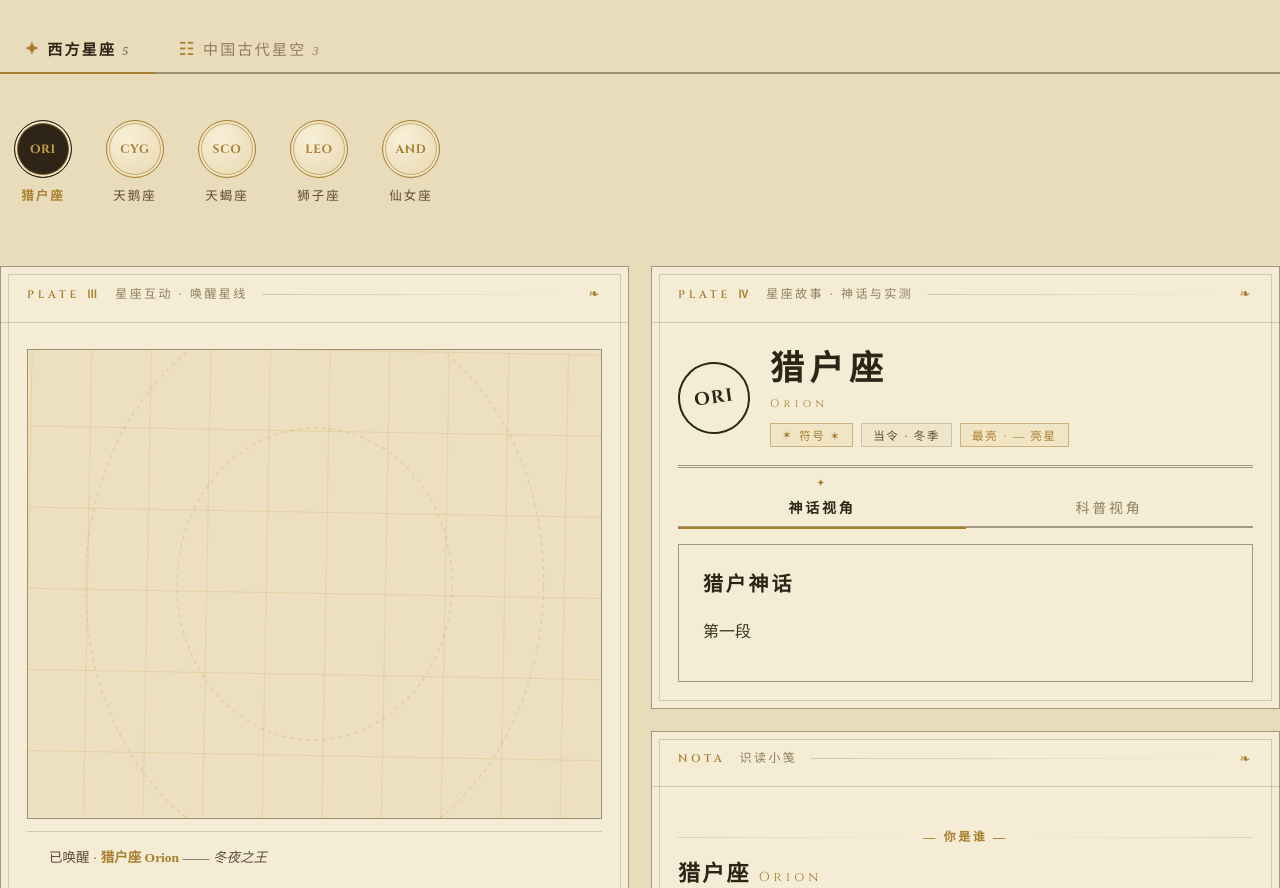
Test case: ConstellationView › chinese tradition 渲染 3 枚 smedal（不再分组，无 chip-list / details）
Click the tab with test id "trad-tab-chinese" at (250,49), box [155, 26, 345, 72]
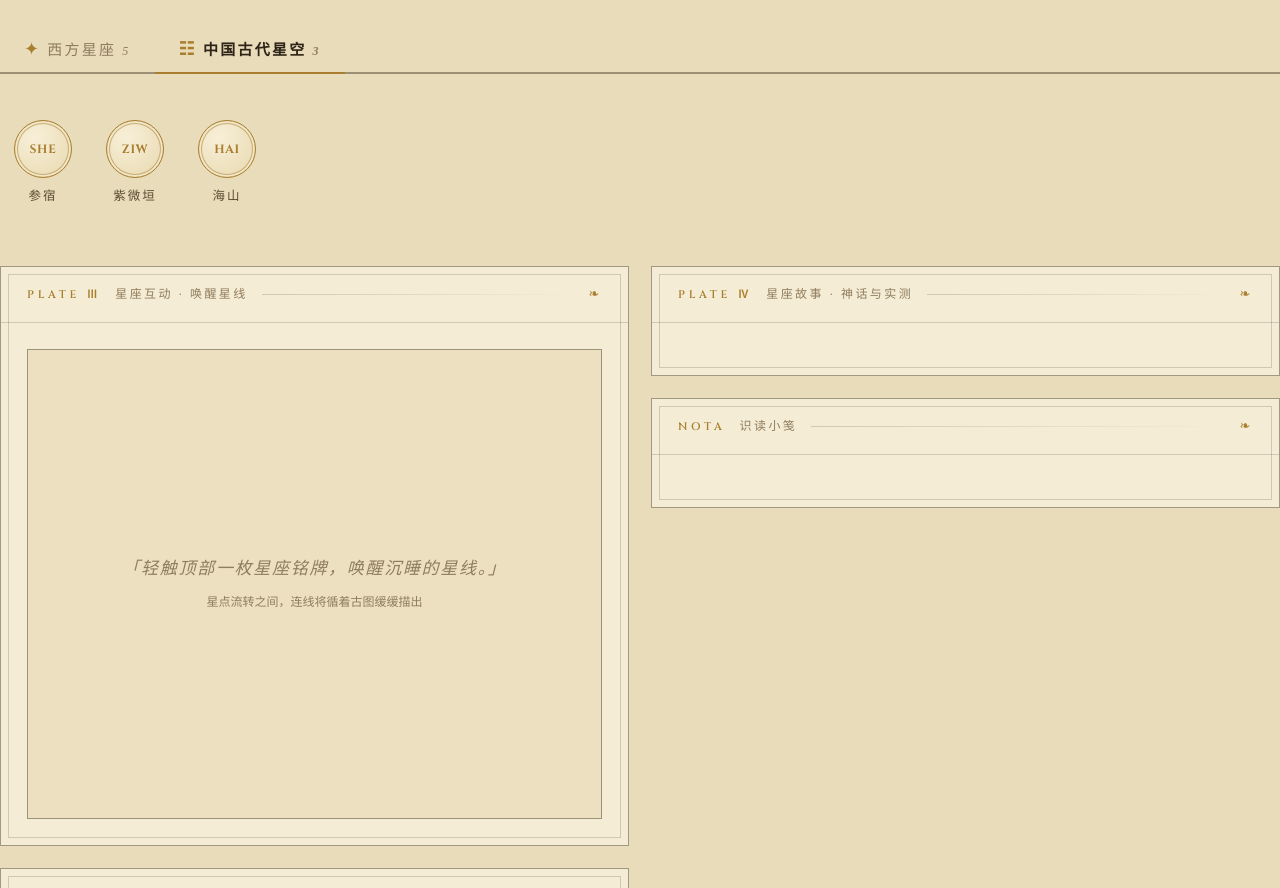
Check: the number of buttons with class "smedal" is 3, box [6, 114, 80, 210]; [98, 114, 172, 210]; [190, 114, 264, 210]
